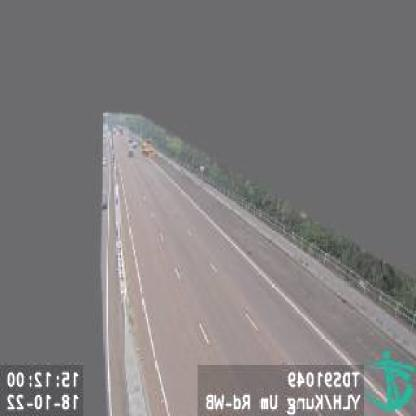Truck: (140, 138, 152, 158)
